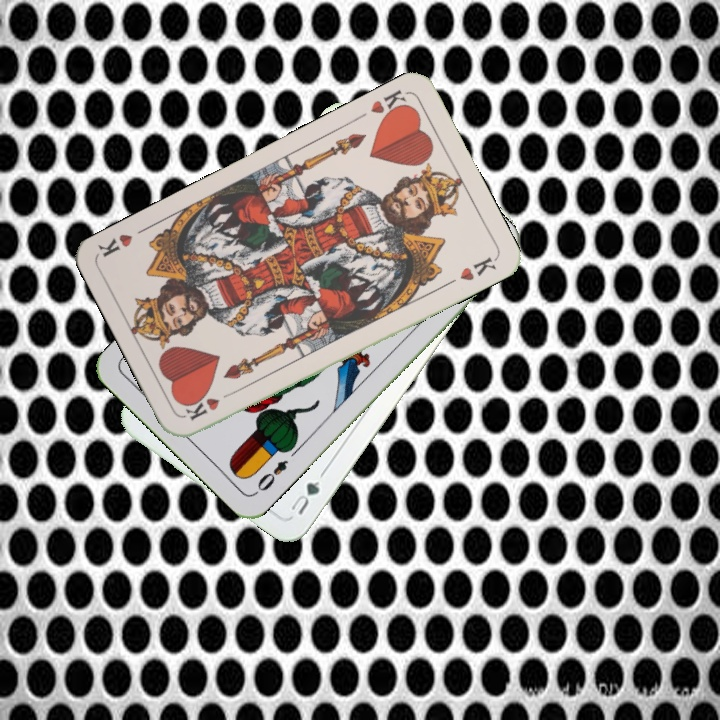EO: (251, 455, 291, 497)
GU: (286, 475, 323, 518)
HK: (182, 387, 238, 424), (366, 85, 413, 124)
